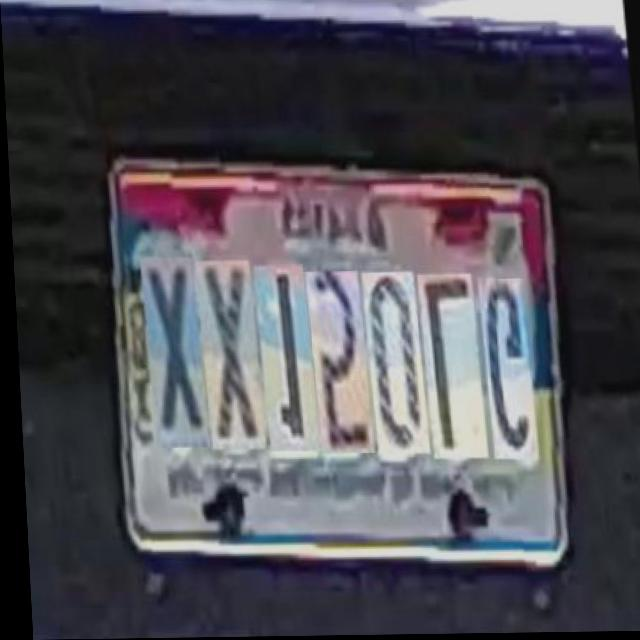0: (362, 272, 427, 455)
1: (253, 265, 318, 453)
5: (305, 272, 371, 455)
g: (478, 278, 536, 461)
l: (417, 276, 485, 460)
x: (195, 260, 263, 451), (140, 258, 207, 448)
